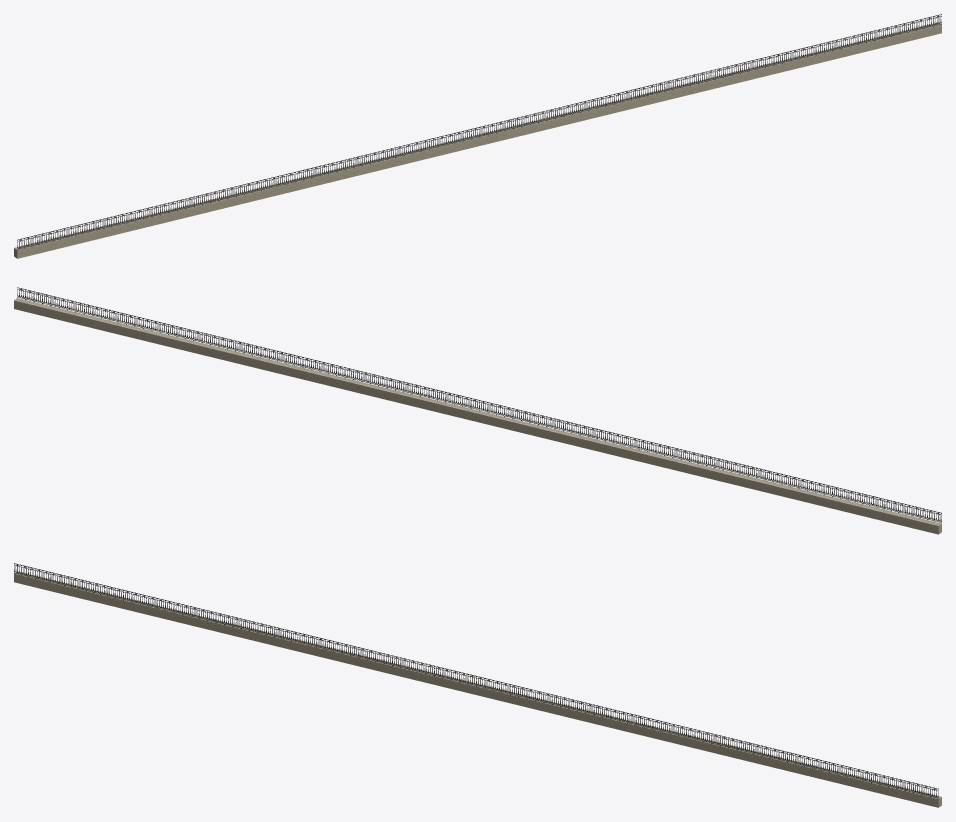
Rendered from glfcrsgate3_vgn.obj.
3 views of the same model, one above another, from view 1: azimuth 30°, elevation 25°; view 2: azimuth 150°, elevation 25°; view 3: azimuth 330°, elevation 25° (orthographic).
Parts seen in each view (by area): view 1: glfcrsgate3_vgn; view 2: glfcrsgate3_vgn; view 3: glfcrsgate3_vgn.
Boxes of the visible parts, box(x1,y1,x2,y2) form: glfcrsgate3_vgn: box(14, 14, 941, 258); glfcrsgate3_vgn: box(14, 287, 941, 534); glfcrsgate3_vgn: box(14, 563, 941, 807).
Size of the model in its own units: 157 by 3.12 by 1.
2 materials, 2 textured.
